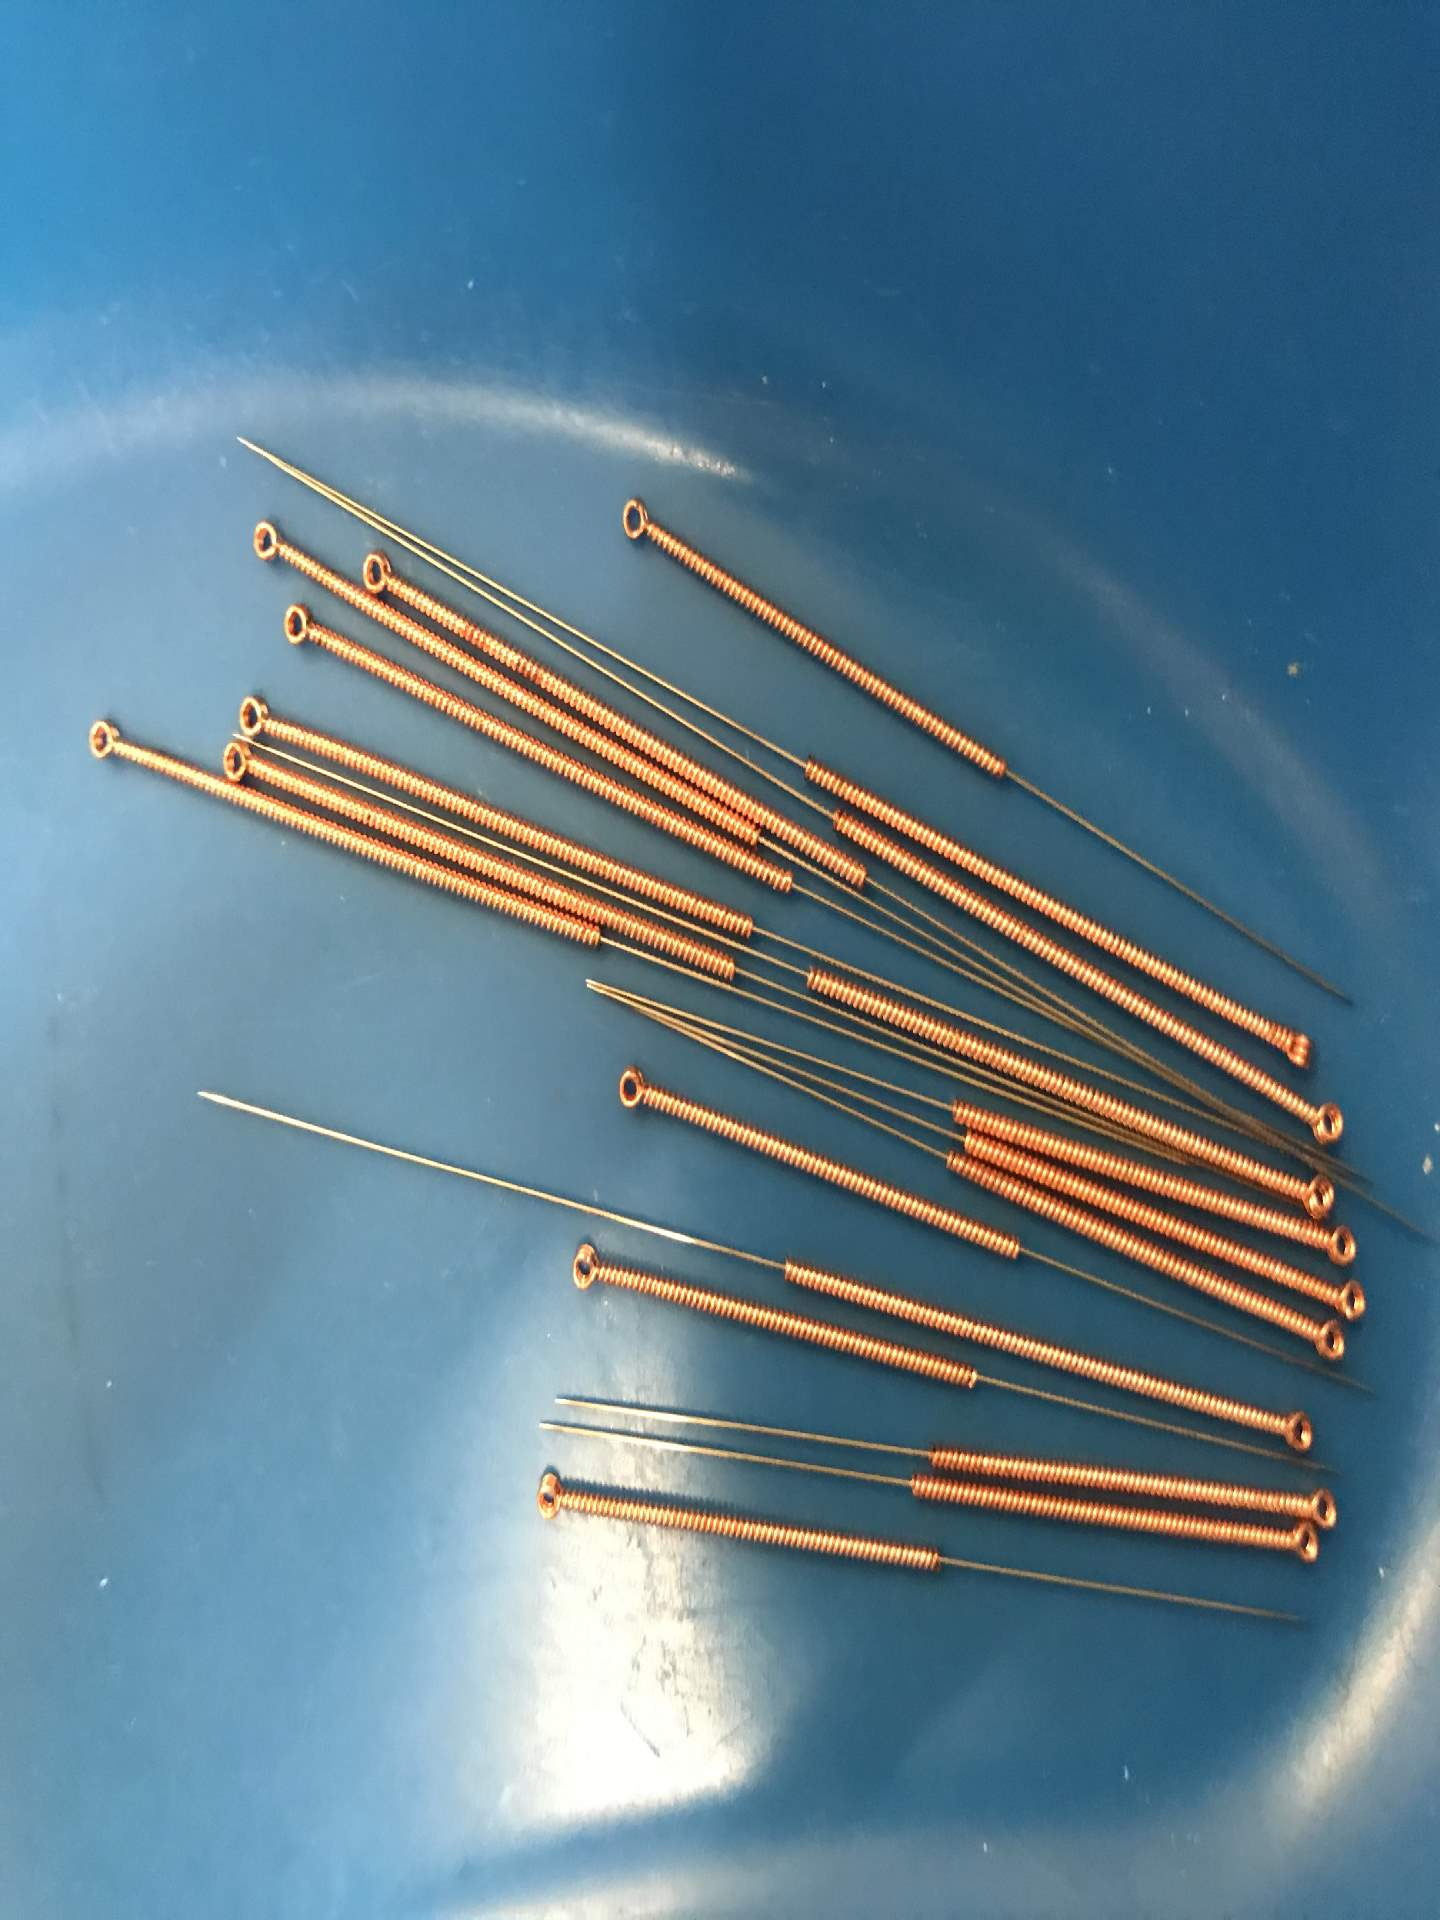needle: (237, 509, 299, 573), (608, 490, 669, 553), (73, 709, 130, 776), (269, 596, 328, 658), (560, 1234, 616, 1296), (605, 1058, 658, 1120), (1296, 1089, 1349, 1150), (1271, 1014, 1324, 1076), (227, 683, 281, 742), (526, 1460, 576, 1524), (1301, 1311, 1352, 1370), (1268, 1401, 1317, 1459), (1292, 1161, 1340, 1219), (213, 736, 268, 786), (1299, 1479, 1345, 1531), (358, 544, 399, 602), (1316, 1222, 1364, 1268), (1330, 1271, 1373, 1323), (1283, 1515, 1322, 1569)
